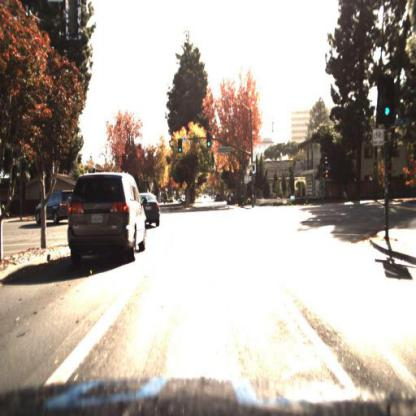car: (67, 172, 148, 261), (34, 186, 69, 231), (35, 187, 73, 225), (137, 191, 162, 227), (145, 189, 161, 234)
trafficLight: (380, 83, 395, 128), (251, 165, 257, 181)
trafficLight-Green: (206, 132, 213, 153), (251, 166, 259, 182), (207, 136, 213, 152), (178, 141, 184, 156)
trafficLight-GreenLeft: (177, 143, 183, 156)
